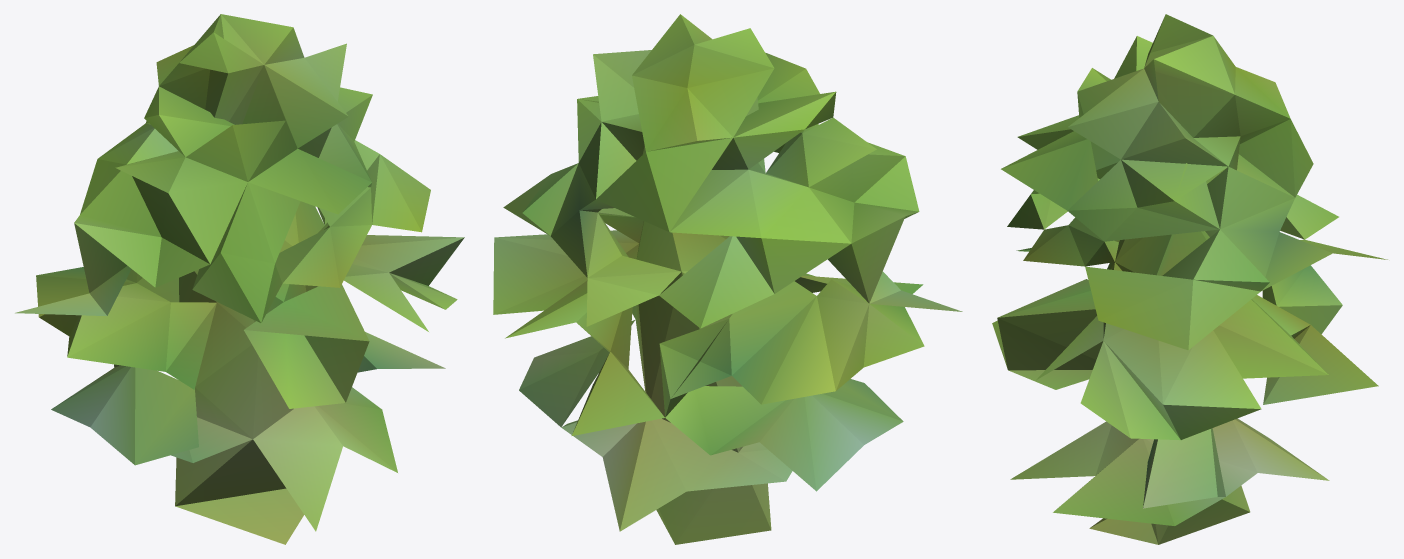
Rendered from cam_lo.glb.
The picture shows the model from 3 angles, left to right: view 1: azimuth 30°, elevation 25°; view 2: azimuth 150°, elevation 25°; view 3: azimuth 270°, elevation 25°; orthographic projection. The views are drawn at different scales.
Parts seen in each view (by area): view 1: geometry_0; view 2: geometry_0; view 3: geometry_0.
Boxes of the visible parts, box(x1,y1,x2,y2) form: geometry_0: box(15, 14, 464, 544); geometry_0: box(493, 14, 962, 544); geometry_0: box(992, 14, 1387, 544).
Size of the model in its own units: 0.8872 by 0.9225 by 0.6679.
